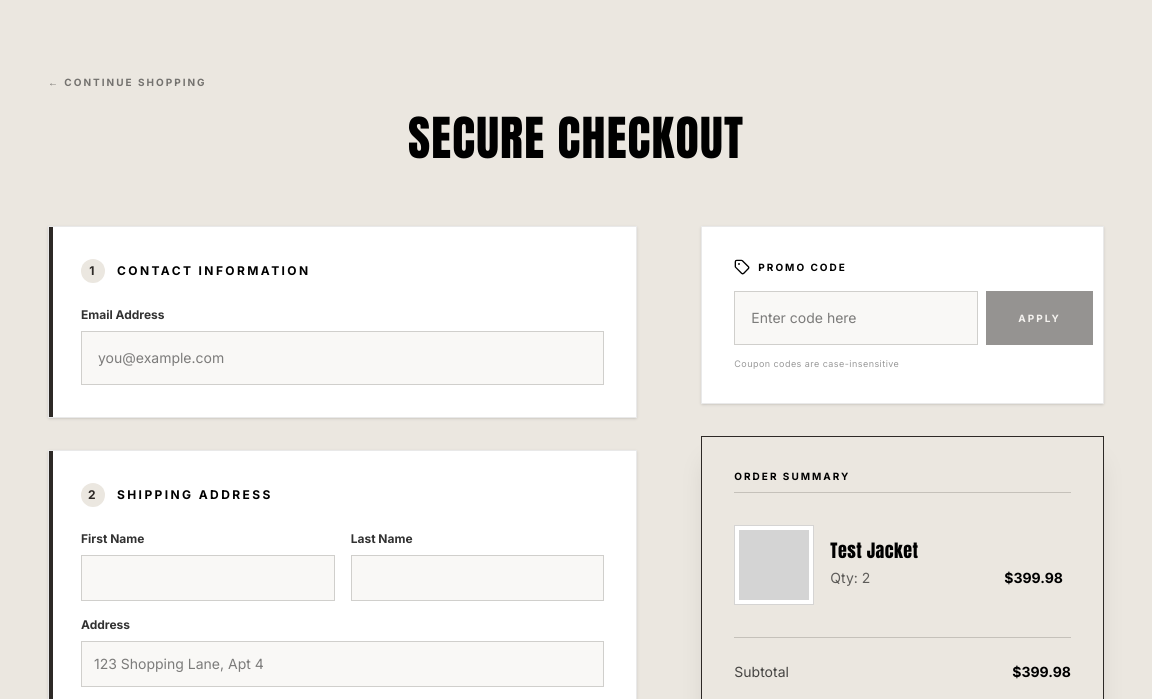
Checkout › shows friendly error on COD stock failure
Type "a@b.com" into the field with placeholder "you@example.com".
click(343, 358); type("a@b.com")  # box [81,331,604,385]
Type "John" into the field below "First Name".
click(208, 578); type("John")  # box [81,555,335,601]
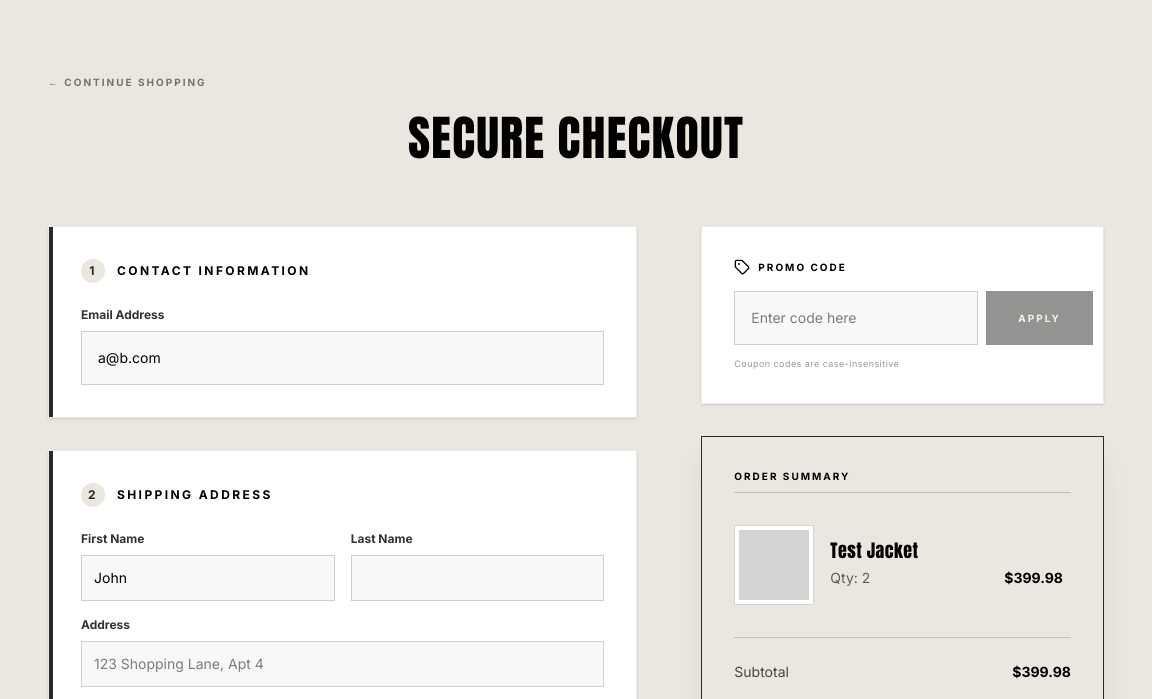
Type "Doe" into the field below "Last Name".
click(478, 578); type("Doe")  # box [351,555,604,601]
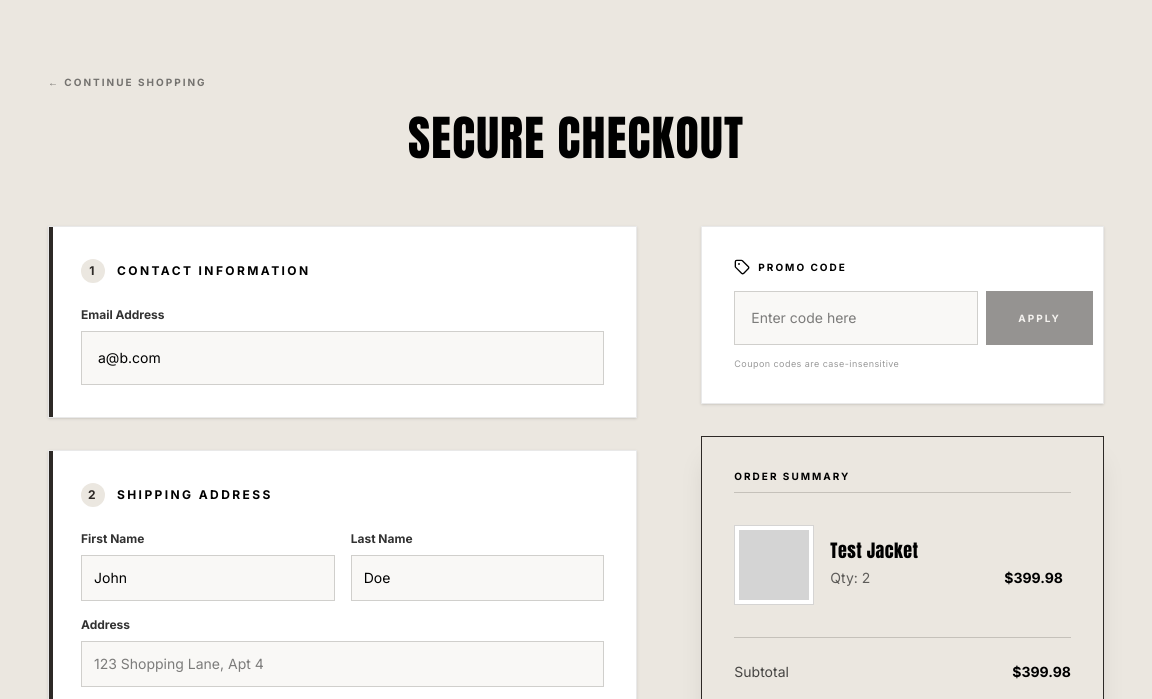
Type "1 Main St" into the field with placeholder "123 Shopping Lane, Apt 4".
click(343, 664); type("1 Main St")  # box [81,641,604,687]
(page scrolled)
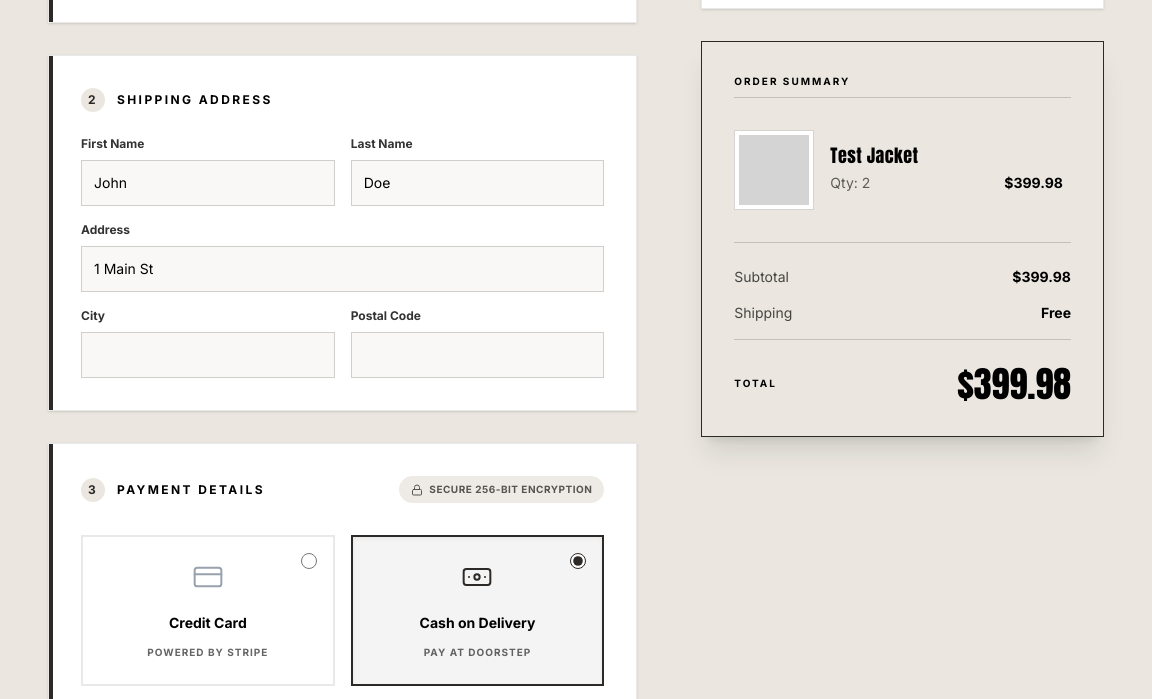
Type "NYC" into the field below "City".
click(208, 355); type("NYC")  # box [81,332,335,378]
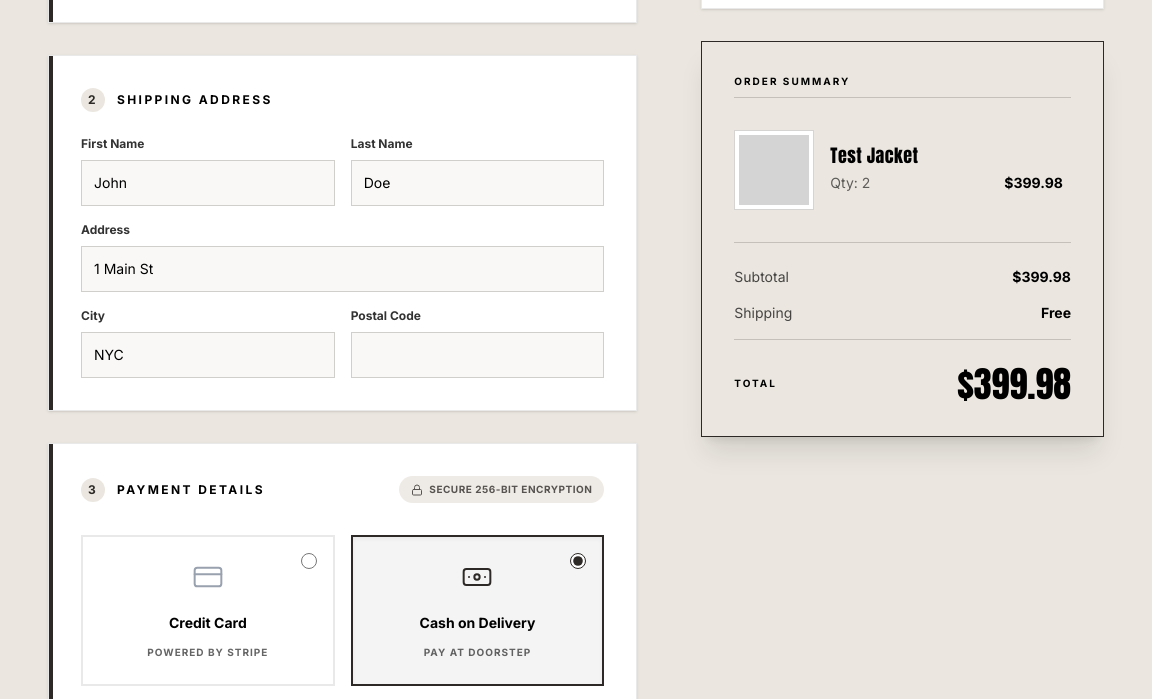
Type "10001" into the field below "Postal Code".
click(478, 355); type("10001")  # box [351,332,604,378]
(page scrolled)
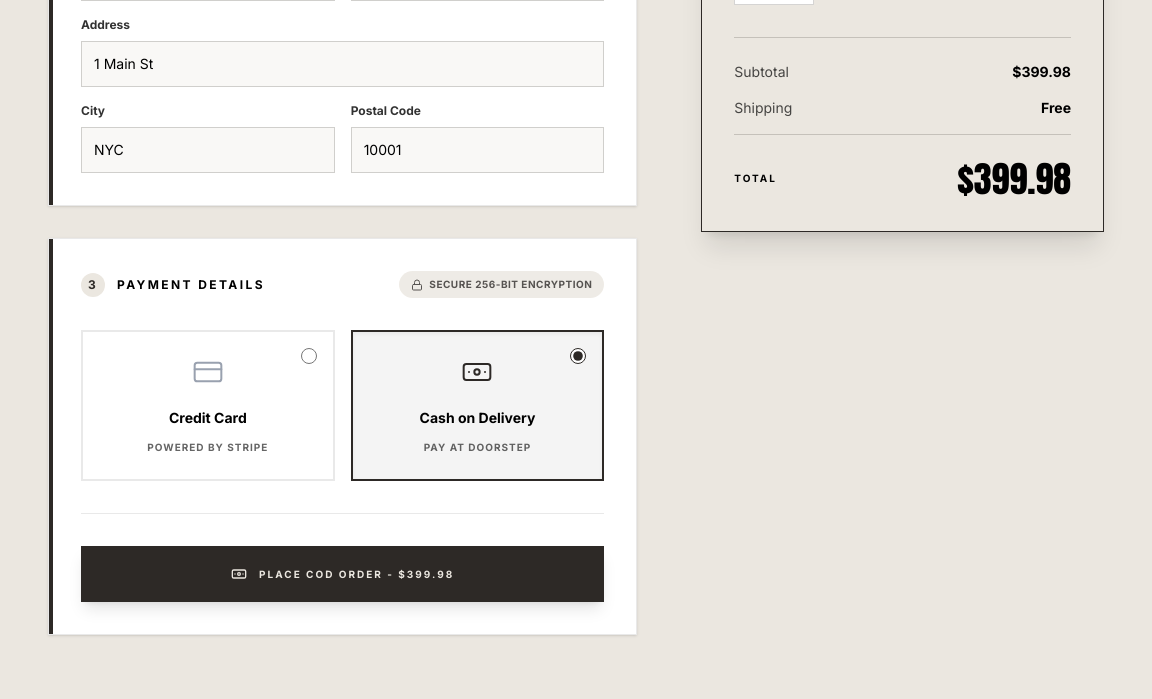
Click the button "Place COD Order - $399.98".
click(343, 574)  # box [81,546,604,602]
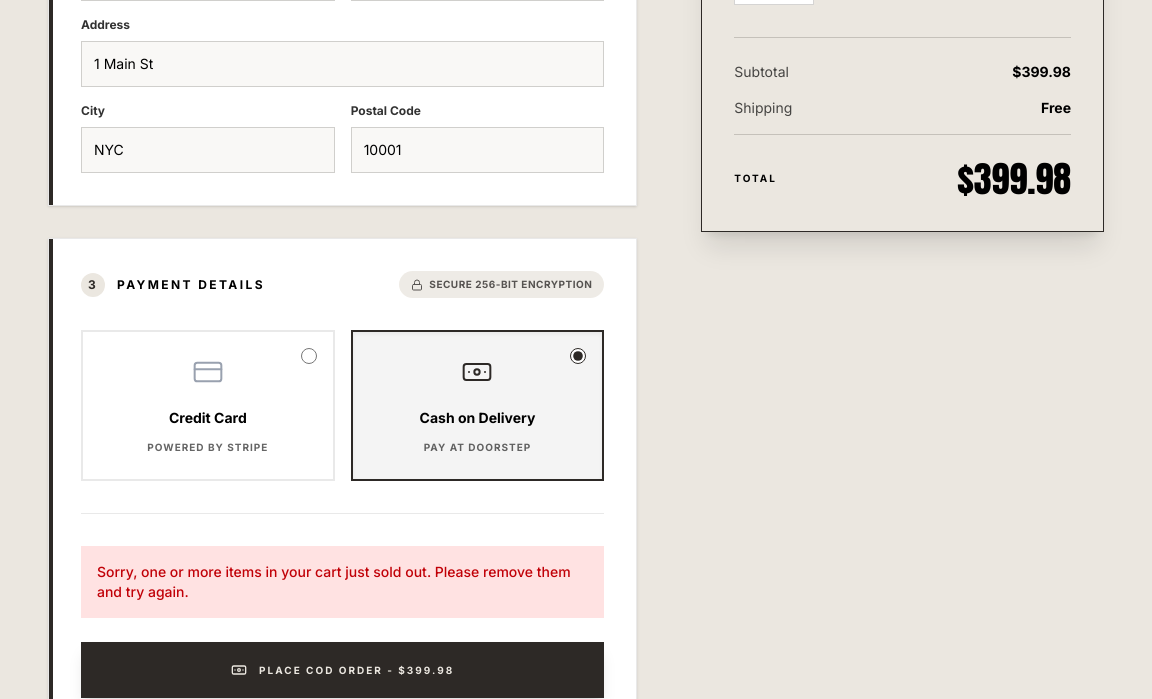
Now the text "sold out" is shown, box [97,563,571,600]
